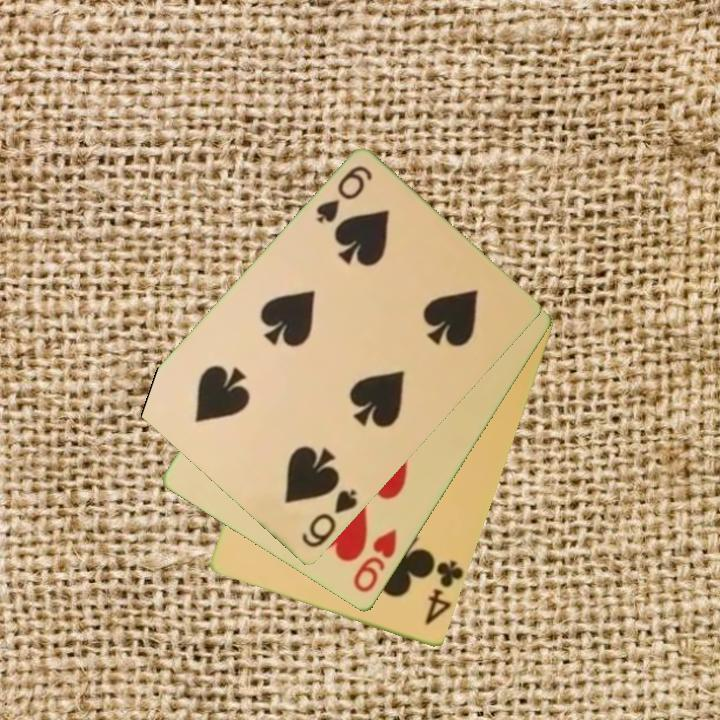4c: (421, 557, 466, 629)
6s: (298, 486, 361, 552), (312, 162, 375, 227)
9h: (350, 526, 400, 597)
